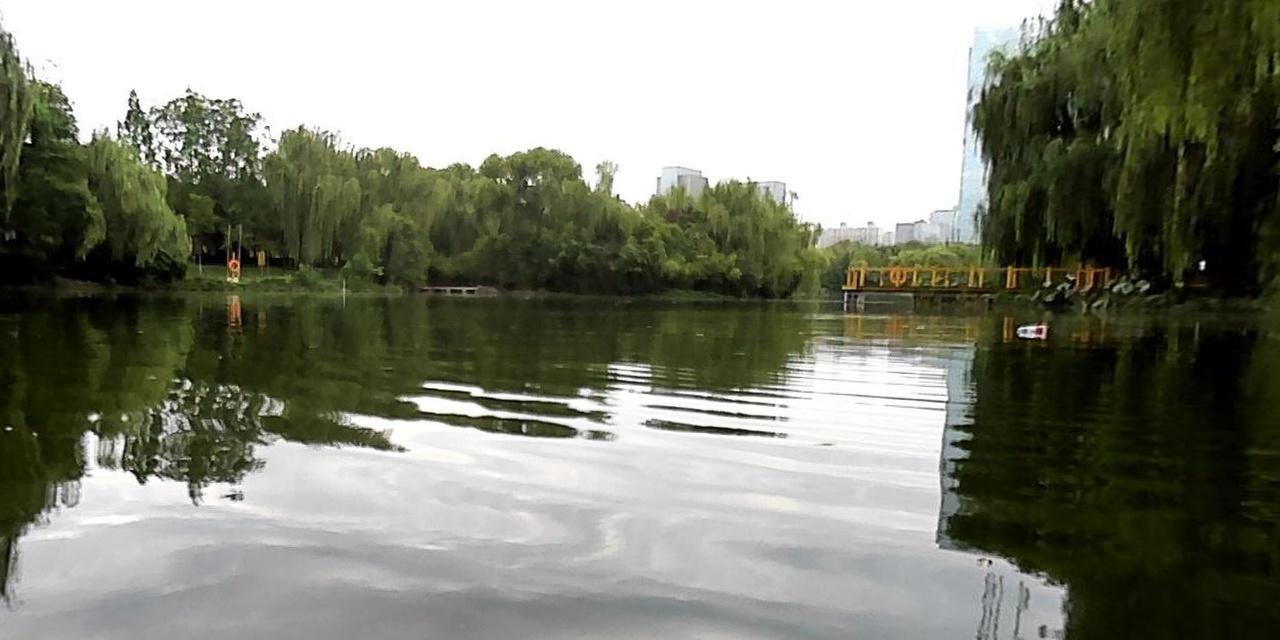bottle: (1015, 324, 1048, 333)
